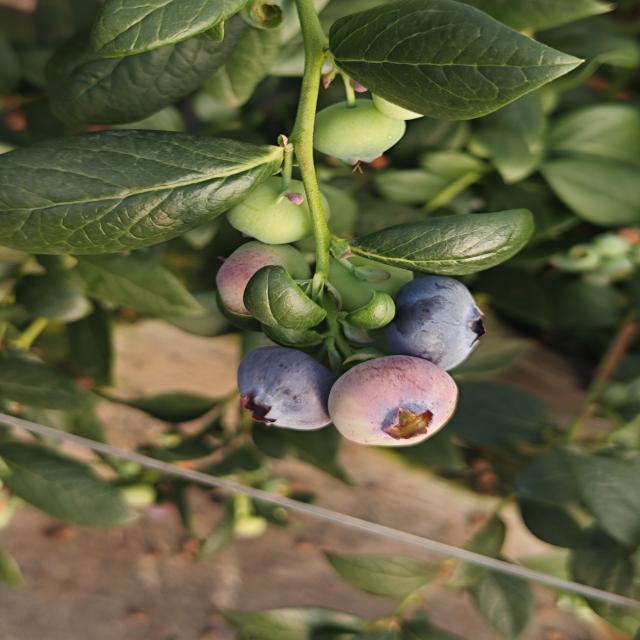ripe: (384, 270, 492, 376), (228, 340, 344, 435)
